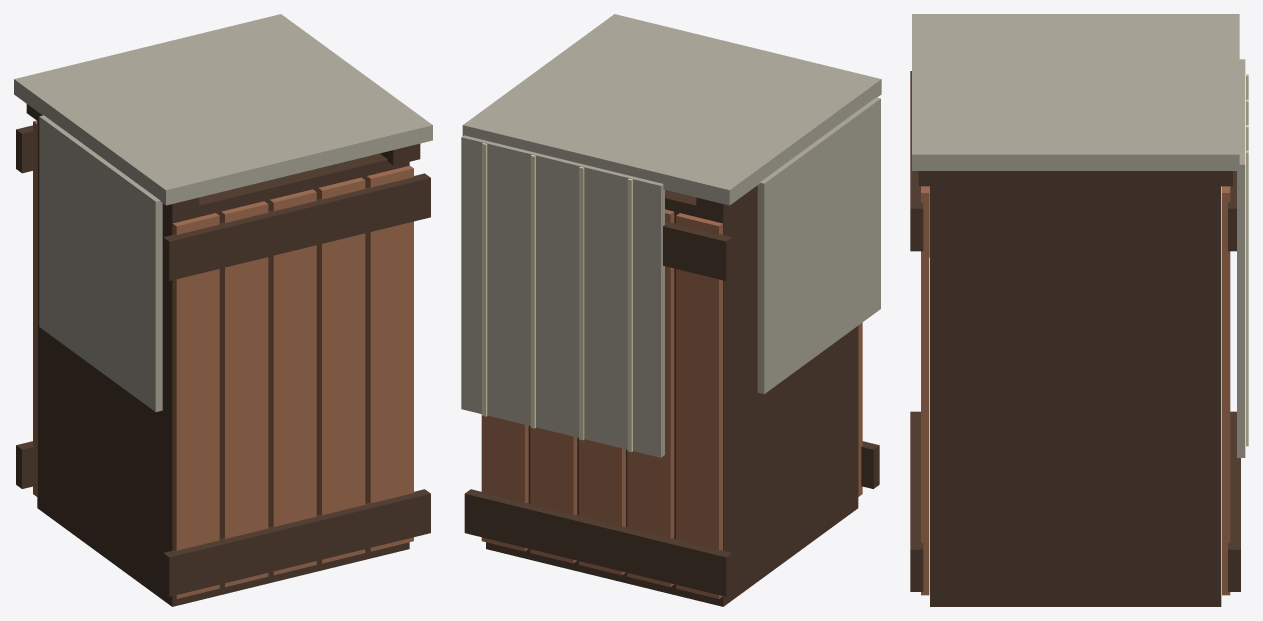
File: LP_Temporary_CoveredDisplay.fbx
3 views of the same model, side by side, from view 1: azimuth 30°, elevation 25°; view 2: azimuth 150°, elevation 25°; view 3: azimuth 270°, elevation 25° (orthographic). The views are drawn at different scales.
Parts seen in each view (by area): view 1: M_Museum_DustCloth, Terracotta, Walnut; view 2: M_Museum_DustCloth, Walnut, Terracotta, WarmIvory; view 3: Walnut, M_Museum_DustCloth, Terracotta, WarmIvory.
Boxes of the visible parts, x1=… form: M_Museum_DustCloth: x1=14, y1=14, x2=432, y2=411; Terracotta: x1=33, y1=120, x2=413, y2=598; Walnut: x1=16, y1=104, x2=430, y2=606; M_Museum_DustCloth: x1=461, y1=14, x2=881, y2=457; Walnut: x1=464, y1=185, x2=879, y2=606; Terracotta: x1=481, y1=209, x2=862, y2=598; WarmIvory: x1=482, y1=143, x2=632, y2=452; Walnut: x1=910, y1=71, x2=1240, y2=606; M_Museum_DustCloth: x1=912, y1=14, x2=1245, y2=457; Terracotta: x1=921, y1=186, x2=1230, y2=595; WarmIvory: x1=1246, y1=74, x2=1248, y2=446.
Size of the model in its own units: 120 by 180 by 120.
